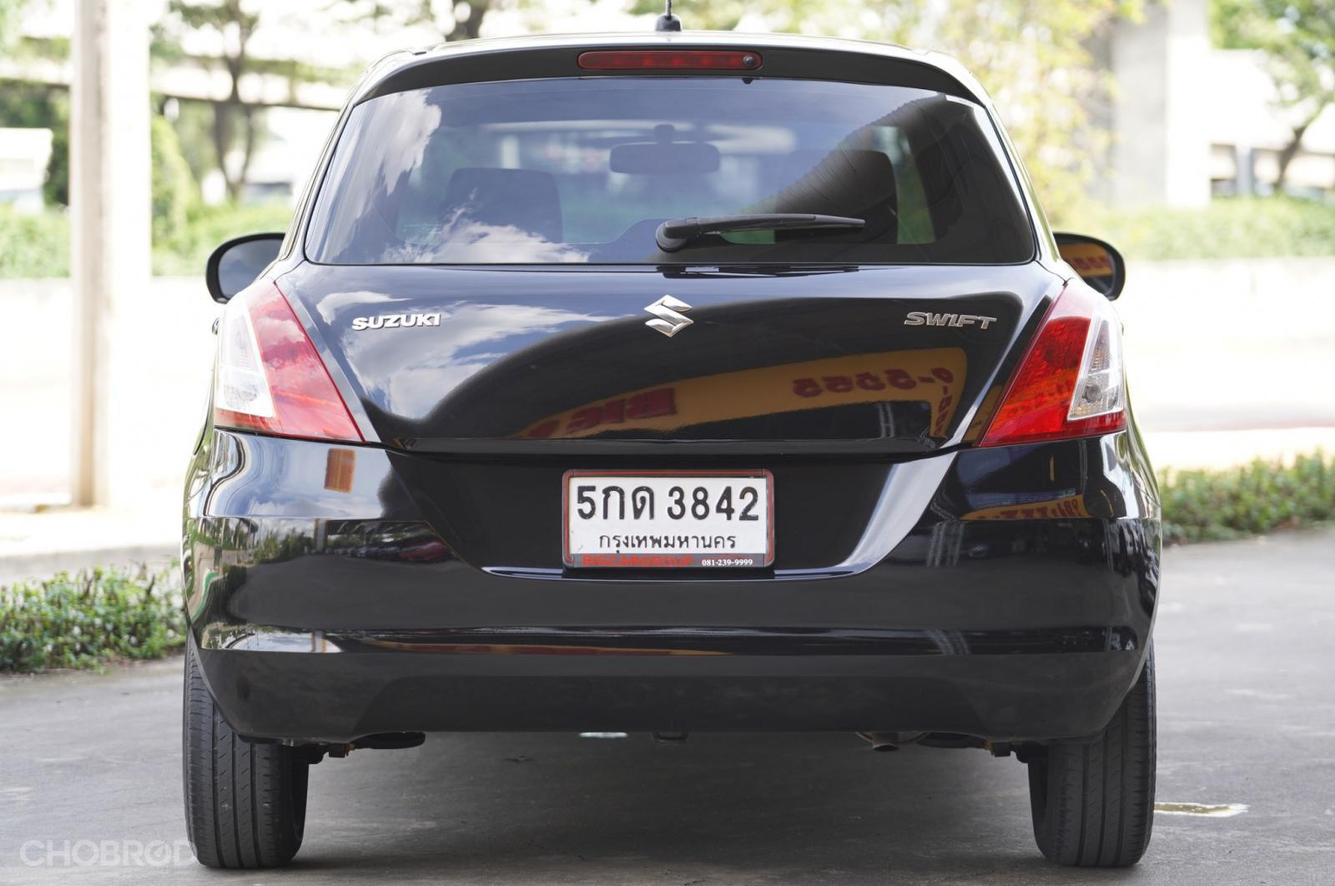license-plate: (566, 465, 773, 571)
